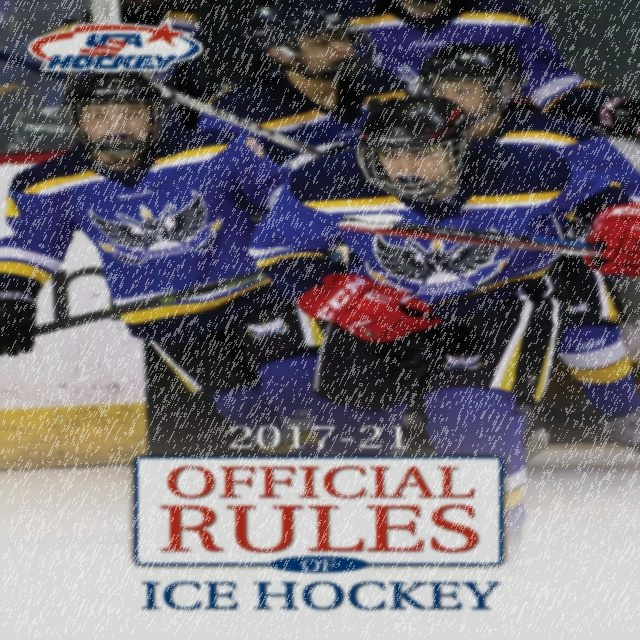pessoa: (246, 97, 639, 562), (1, 66, 378, 458), (416, 39, 640, 468), (410, 41, 598, 149), (0, 0, 92, 150), (156, 0, 259, 101)
